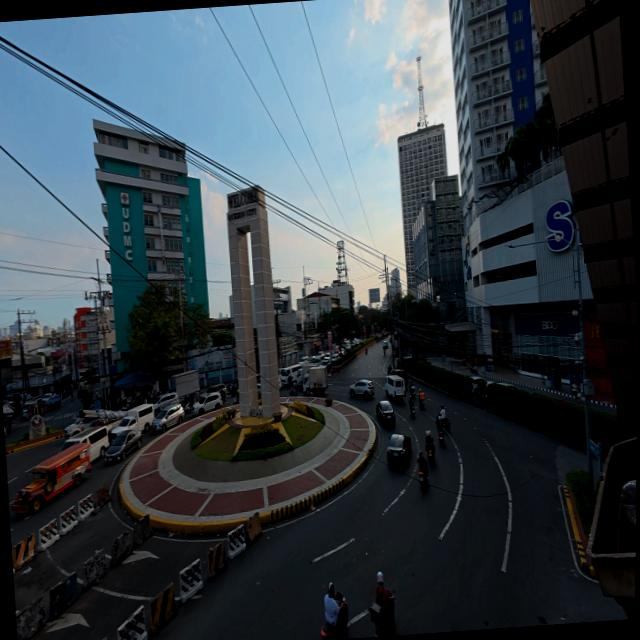Jeepneys: (12, 443, 91, 514)
car: (106, 429, 142, 461), (153, 403, 184, 432), (388, 434, 411, 466), (193, 393, 223, 415), (111, 416, 138, 439), (153, 393, 179, 414), (349, 379, 375, 399), (377, 401, 396, 425), (65, 417, 85, 437), (209, 383, 226, 400), (471, 376, 484, 395), (496, 382, 518, 390), (382, 340, 387, 348), (4, 427, 7, 437)
motorcycle: (321, 593, 348, 639), (370, 601, 394, 636), (437, 414, 450, 433), (418, 467, 428, 488), (426, 443, 435, 461), (442, 416, 451, 433), (408, 398, 416, 417), (438, 428, 445, 447), (184, 401, 193, 415), (4, 419, 12, 431), (409, 384, 415, 397), (419, 398, 425, 410), (234, 391, 239, 404), (470, 365, 477, 374)
trucks: (170, 370, 199, 398), (302, 366, 328, 396)
vans: (60, 427, 110, 460), (111, 404, 154, 439), (191, 391, 224, 416), (127, 403, 154, 432), (110, 415, 138, 441), (153, 393, 179, 414), (280, 364, 302, 386), (385, 375, 405, 399)
